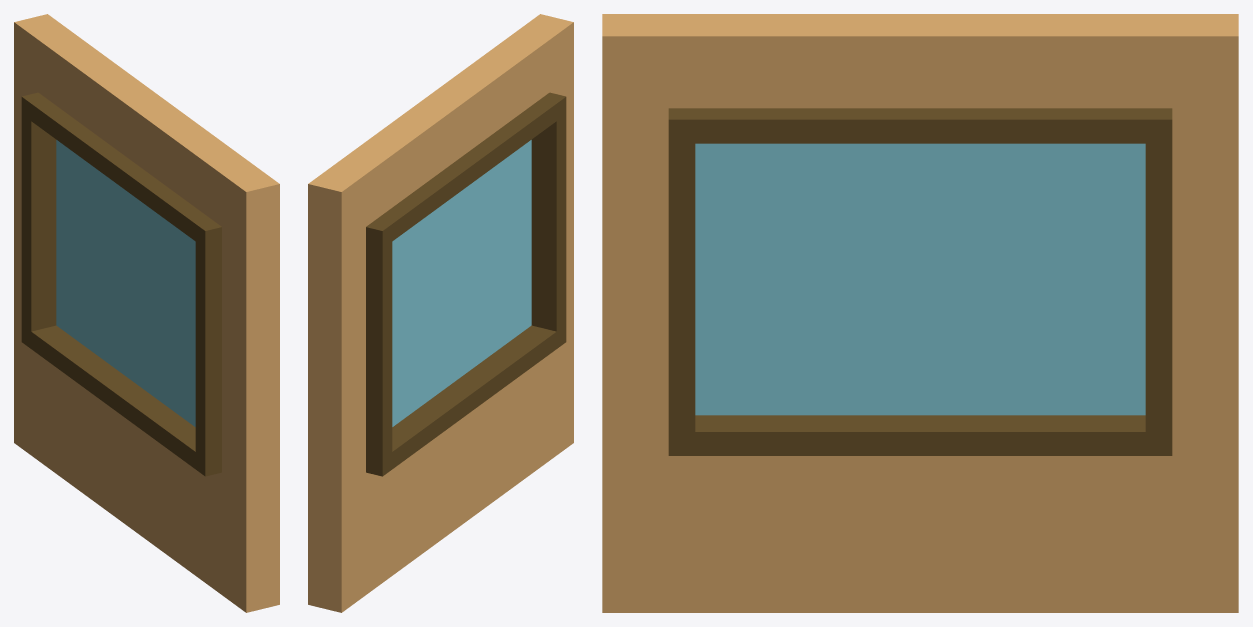
Rendered from office_wall_window.fbx.
3 views of the same model, side by side, from view 1: azimuth 30°, elevation 25°; view 2: azimuth 150°, elevation 25°; view 3: azimuth 270°, elevation 25° (orthographic). The views are drawn at different scales.
Parts seen in each view (by area): view 1: wall.001, frame.001, glass.001; view 2: wall.001, frame.001, glass.001; view 3: wall.001, glass.001, frame.001.
Part boxes in pixels (x1,y1,x2,y2): wall.001: (14, 14, 279, 612); frame.001: (21, 92, 221, 476); glass.001: (56, 140, 195, 426); wall.001: (308, 14, 573, 612); frame.001: (366, 92, 566, 476); glass.001: (392, 140, 531, 426); wall.001: (602, 14, 1238, 612); glass.001: (695, 143, 1145, 415); frame.001: (668, 108, 1172, 455).
Bounding box in the file's own units: 50 × 300 × 300.
